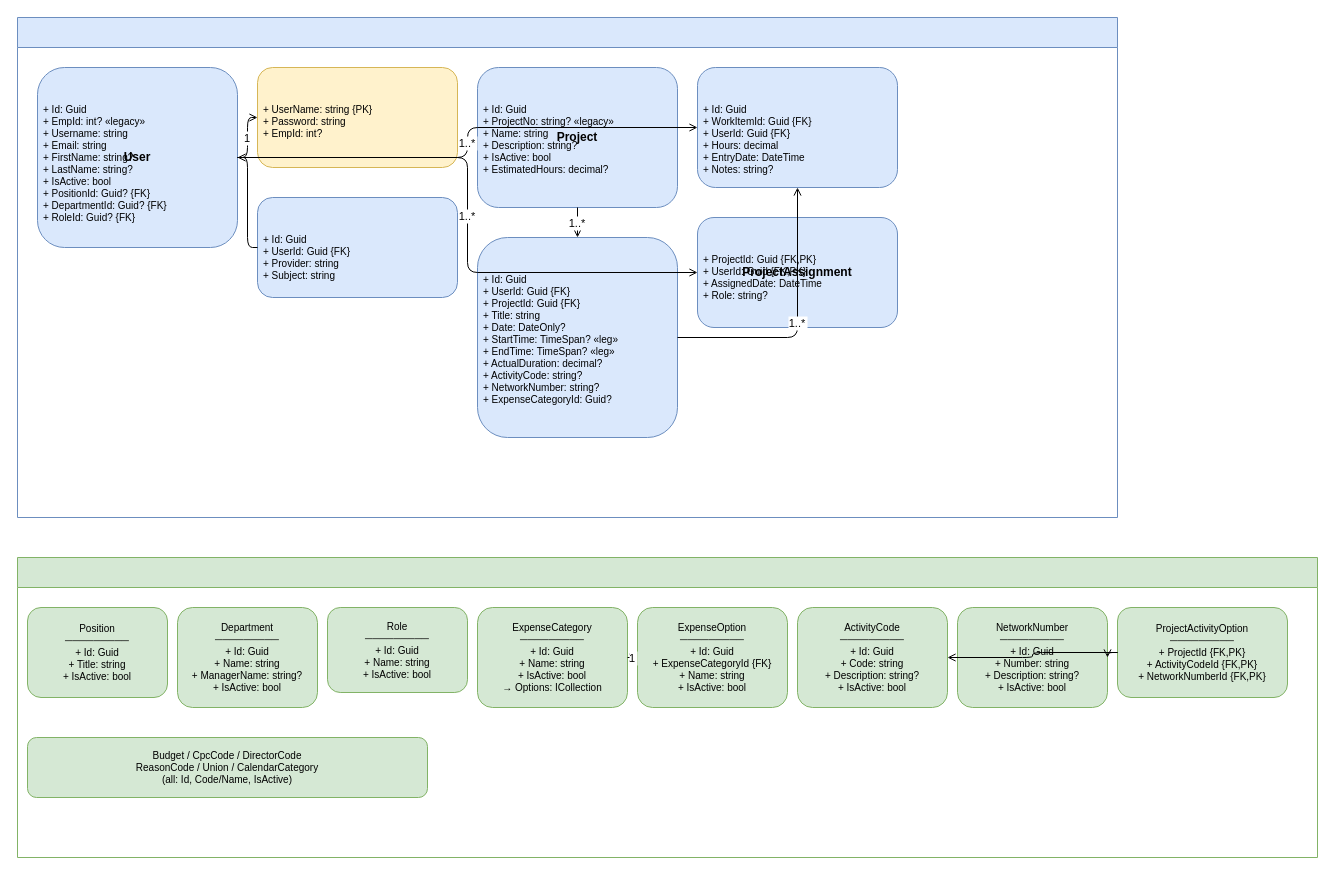
This 1335x875 diagram has some shape labels left out. Each missing label, with the box of its shape:
Catalog Domain: (16, 556, 1318, 858)
Core Domain: (16, 16, 1118, 518)
ExternalIdentity: (256, 196, 458, 298)
TimeEntry: (696, 66, 898, 188)
UserAuth «Legacy»: (256, 66, 458, 168)
WorkItem: (476, 236, 678, 438)
